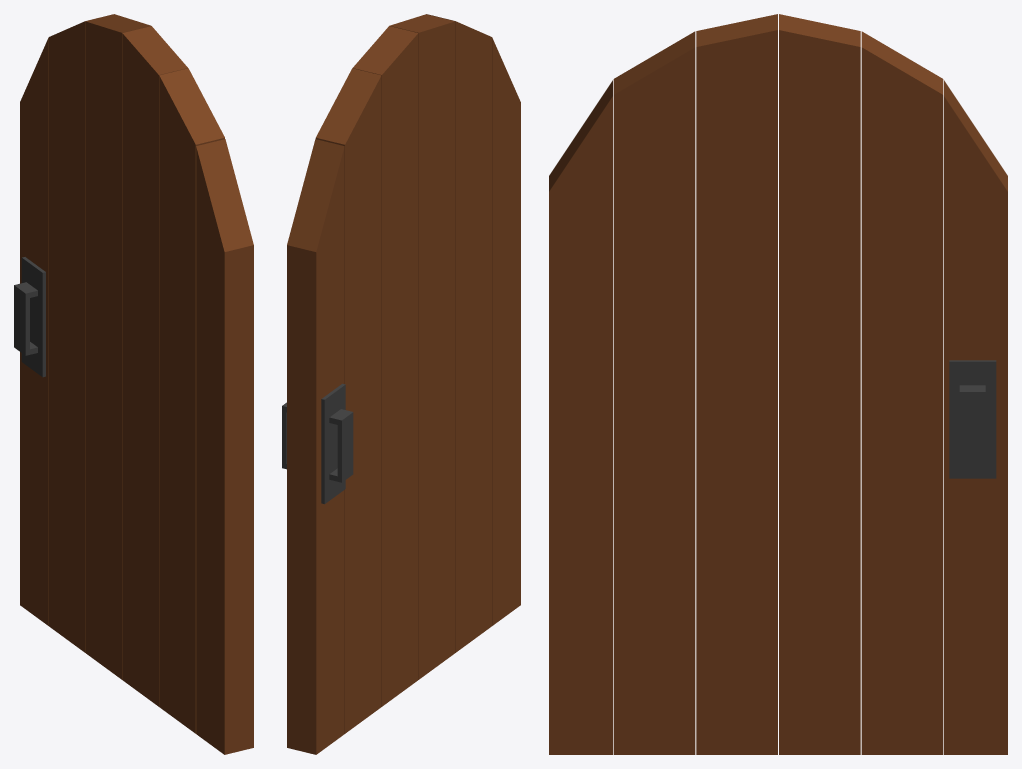
The model's file is Door.glb.
The picture shows the model from 3 angles, left to right: view 1: azimuth 30°, elevation 25°; view 2: azimuth 150°, elevation 25°; view 3: azimuth 270°, elevation 25°; orthographic projection. The views are drawn at different scales.
Visible parts, largest first — view 1: Cube.001; view 2: Cube.001; view 3: Cube.001.
Part boxes in pixels (left/top/right/bottom): Cube.001: left=14, top=14, right=253, bottom=754; Cube.001: left=282, top=14, right=520, bottom=754; Cube.001: left=549, top=14, right=1007, bottom=754.
Bounding box in the file's own units: 0.1352 × 1.4 × 0.8013.
Materials: 1 (1 with a texture image).
